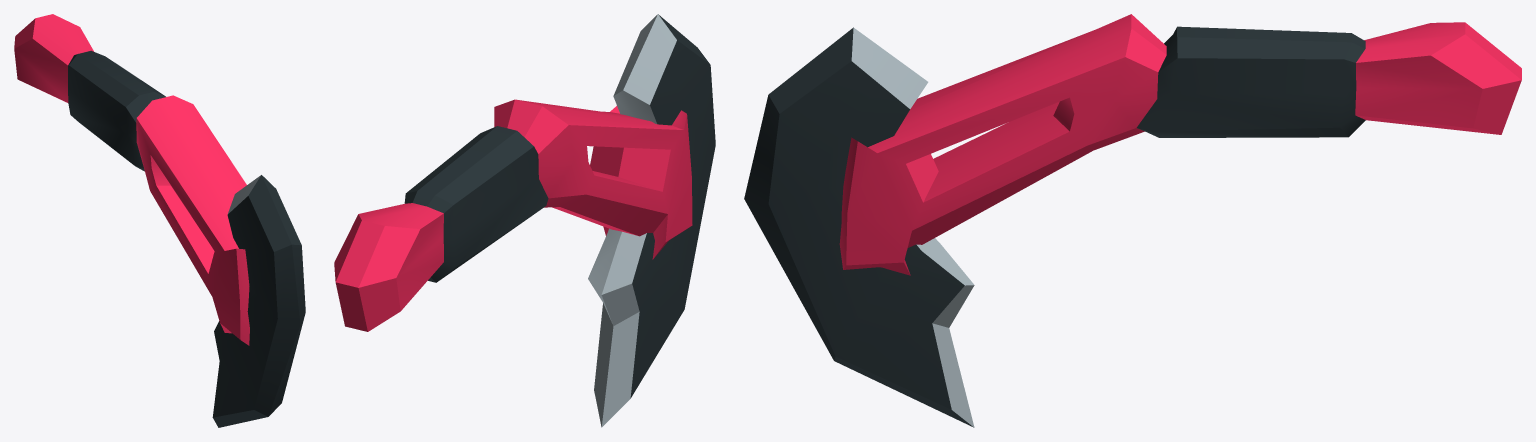
Rendered from climbingAxe.gltf.glb.
The picture shows the model from 3 angles, left to right: view 1: azimuth 30°, elevation 25°; view 2: azimuth 150°, elevation 25°; view 3: azimuth 270°, elevation 25°; orthographic projection. The views are drawn at different scales.
Visible parts, largest first — view 1: climbingAxe; view 2: climbingAxe; view 3: climbingAxe.
Part boxes in pixels (x1,y1,x2,y2): climbingAxe: (14, 14, 305, 427); climbingAxe: (334, 14, 715, 427); climbingAxe: (744, 14, 1521, 427).
Bounding box in the file's own units: 0.0855 × 0.4159 × 0.7206.
